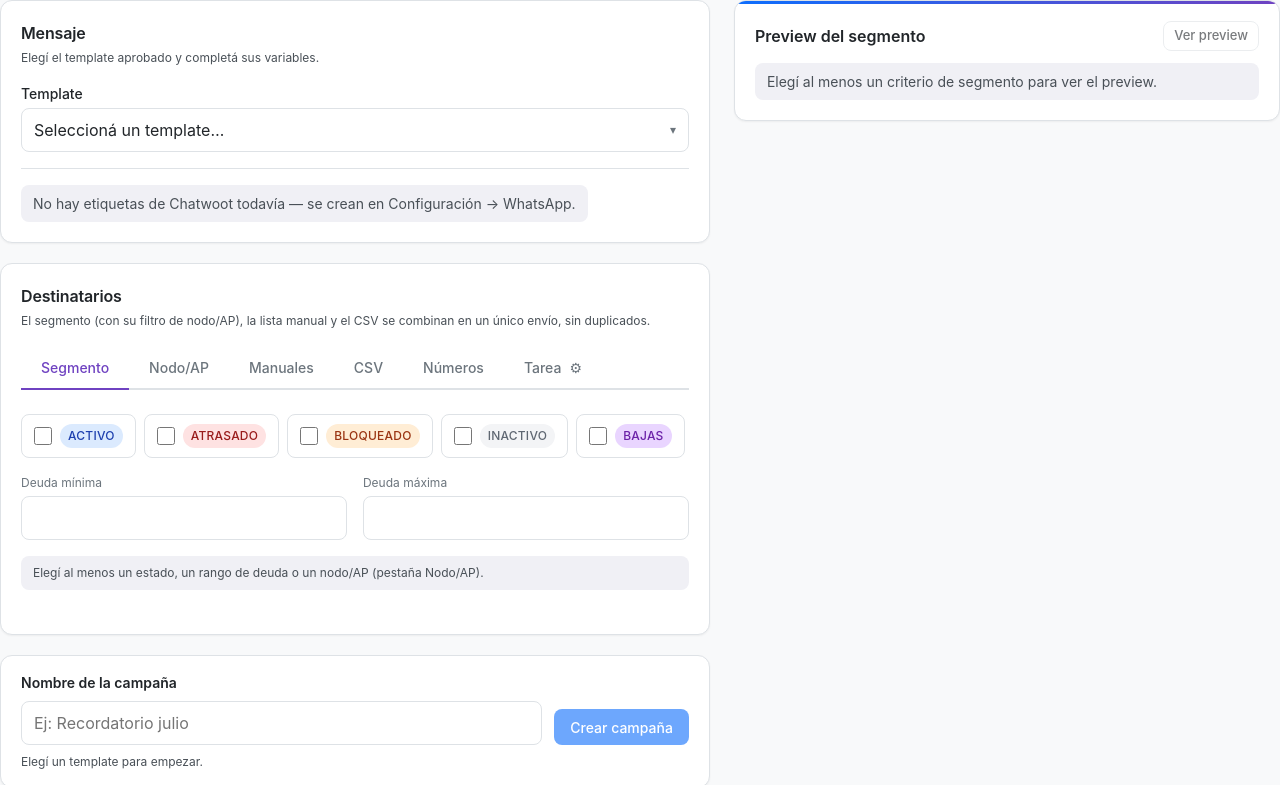
Scenario: CNS-1: nodo SOLO ya es un segmento válido › elegir un nodo (sin estados ni deuda) dispara el preview con networkSiteId y habilita crear
Click the dropdown labelled "Seleccioná un template… ▾" at (129, 130), box [21,108,689,152]
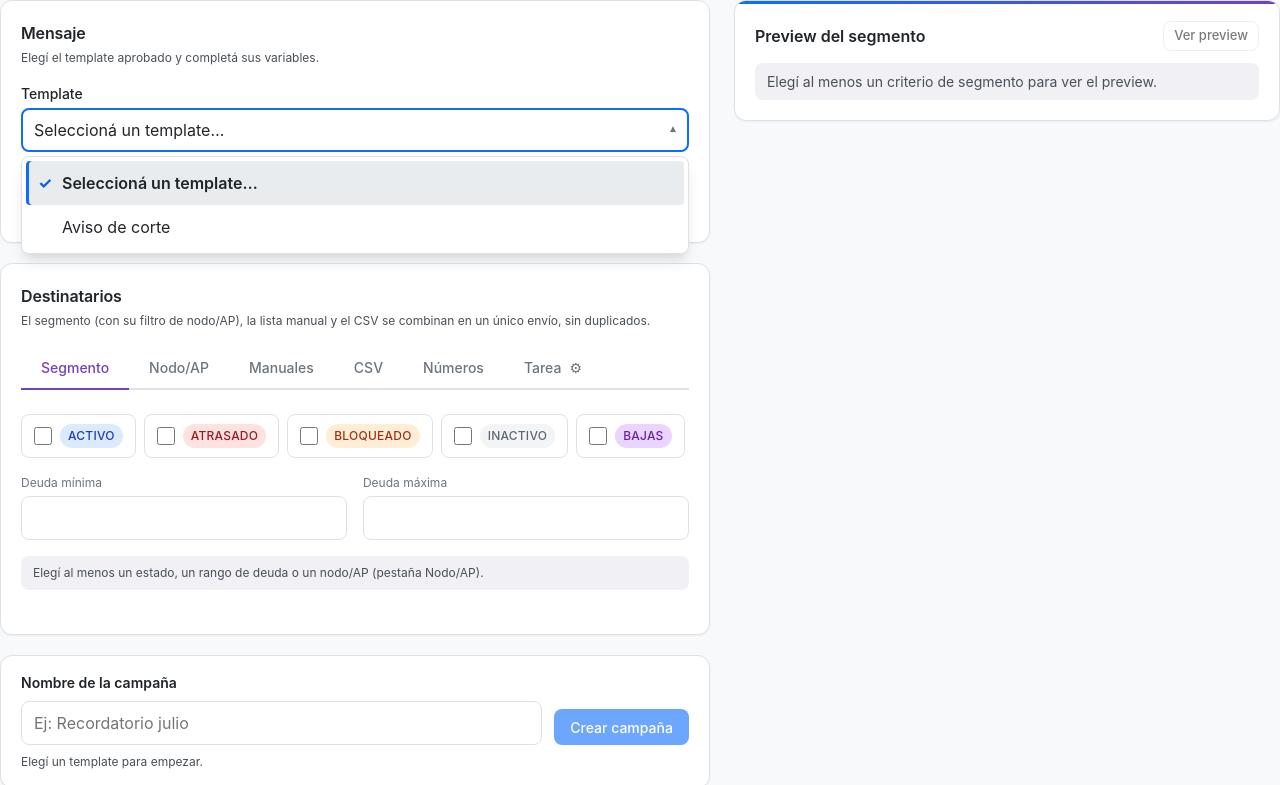
Click the option "Aviso de corte" at (116, 227), box [62,217,170,237]
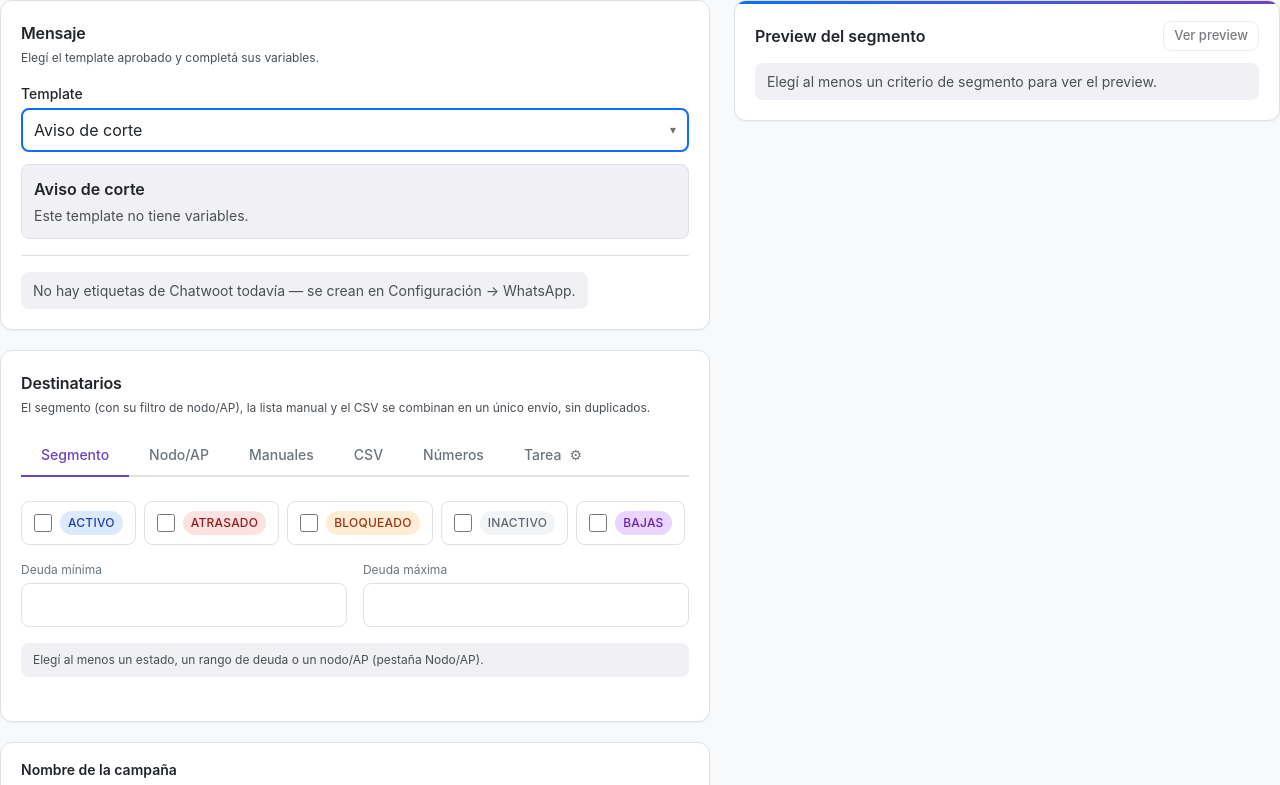
Click the tab "Nodo/AP" at (179, 455), box [129,433,229,477]
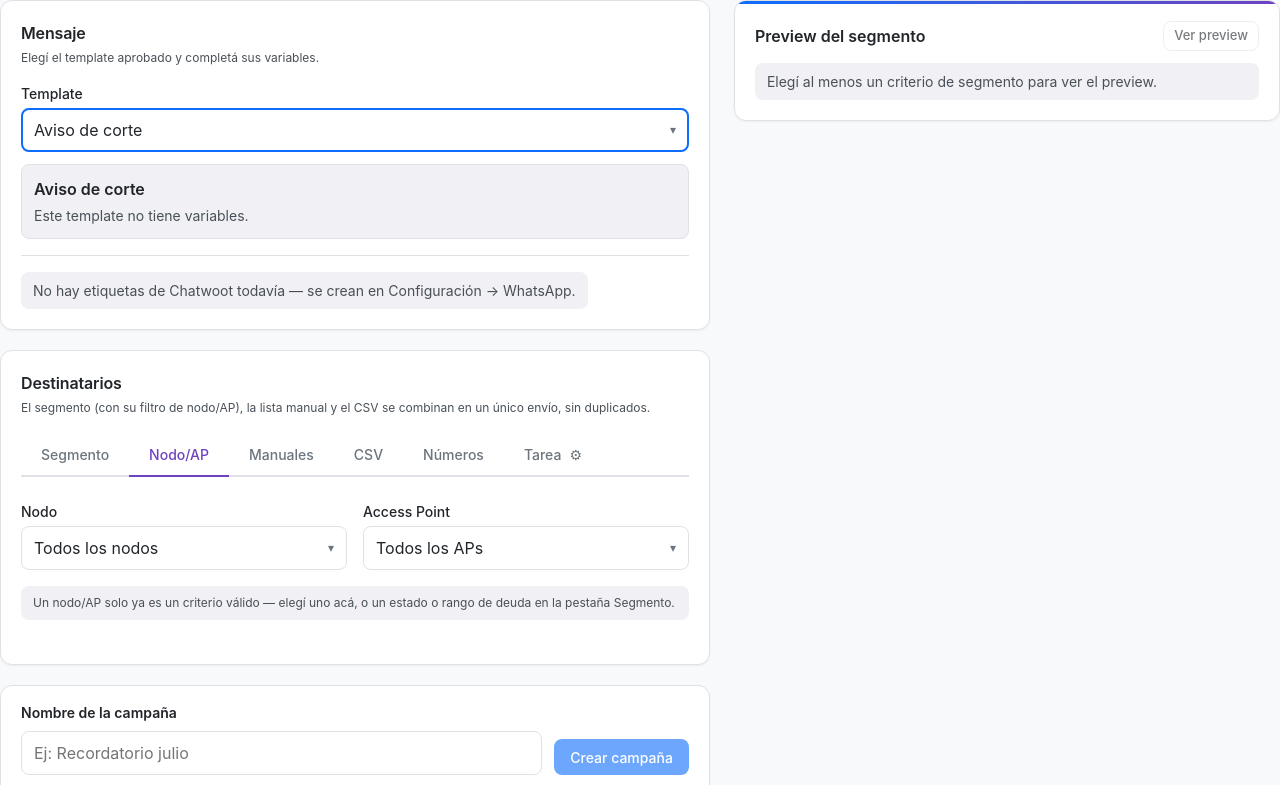
Click the dropdown labelled "Todos los nodos ▾" at (96, 548), box [21,526,347,570]
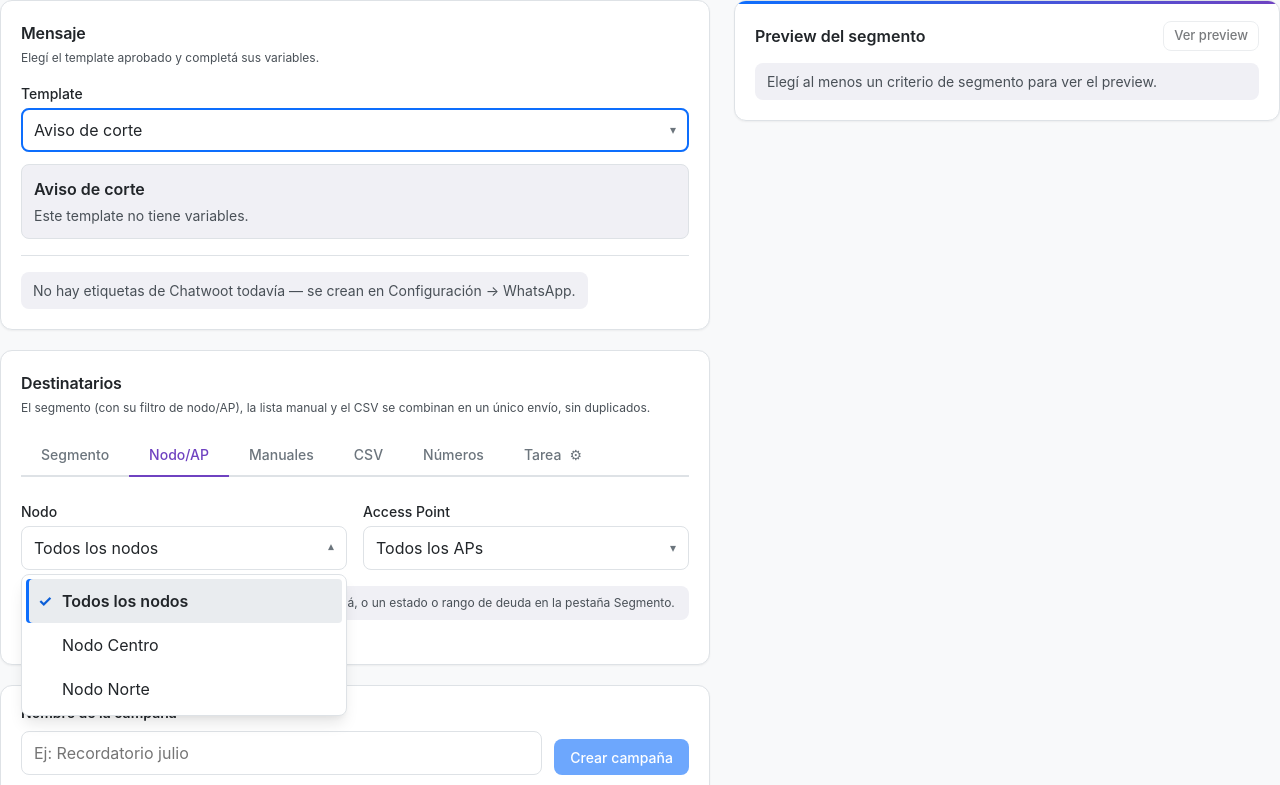
Click the option "Nodo Centro" at (110, 645), box [62,635,159,655]
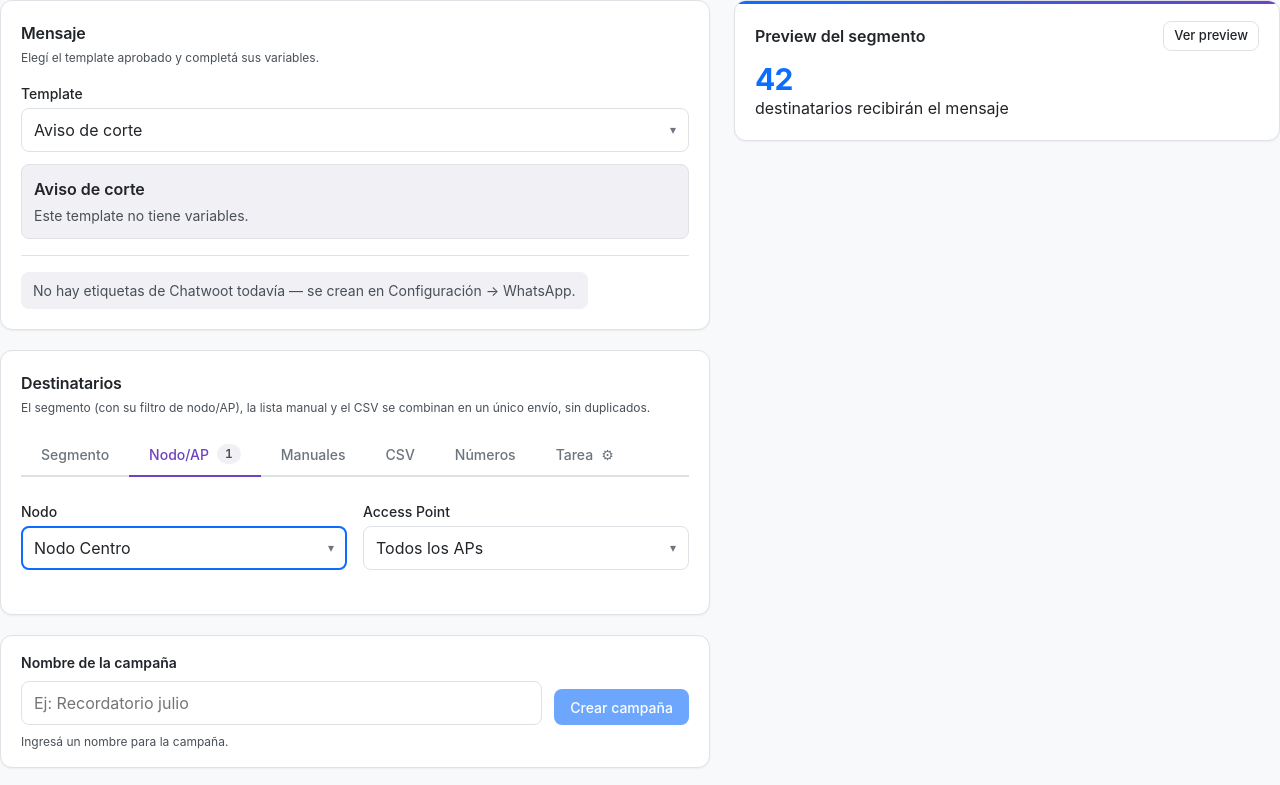
Result: the text "42" is shown at [755,60,793,96]
Type "Corte Nodo Centro" into the field labelled "Nombre de la campaña" at (282, 703), box [21,681,542,725]
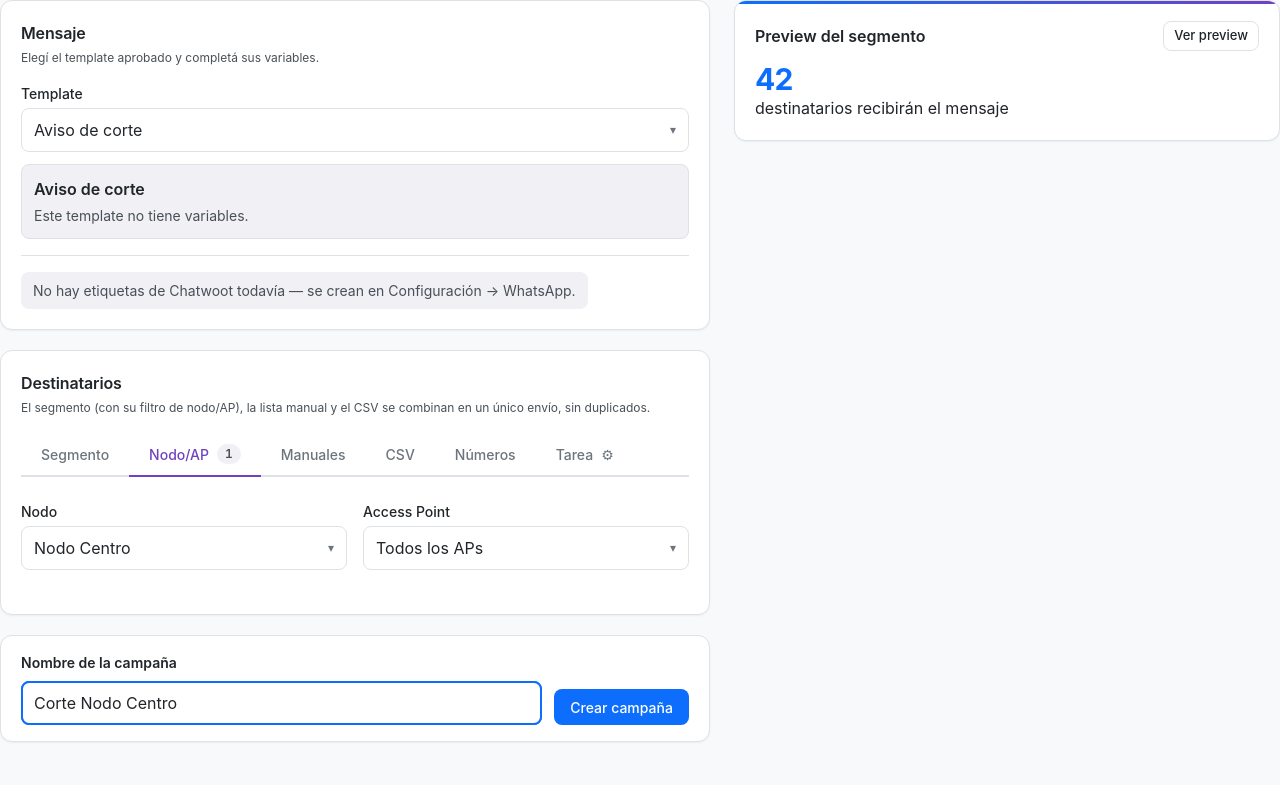
Result: the button "Crear campaña" is enabled at [554,689,689,725]
